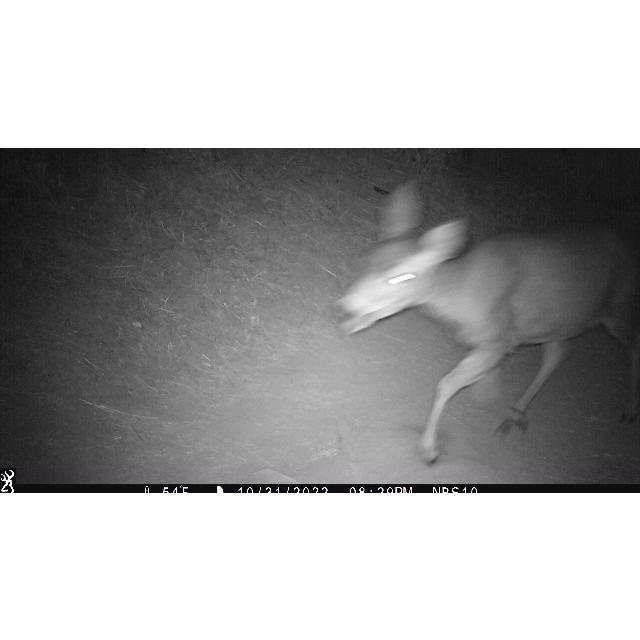animals: (333, 177, 634, 463)
